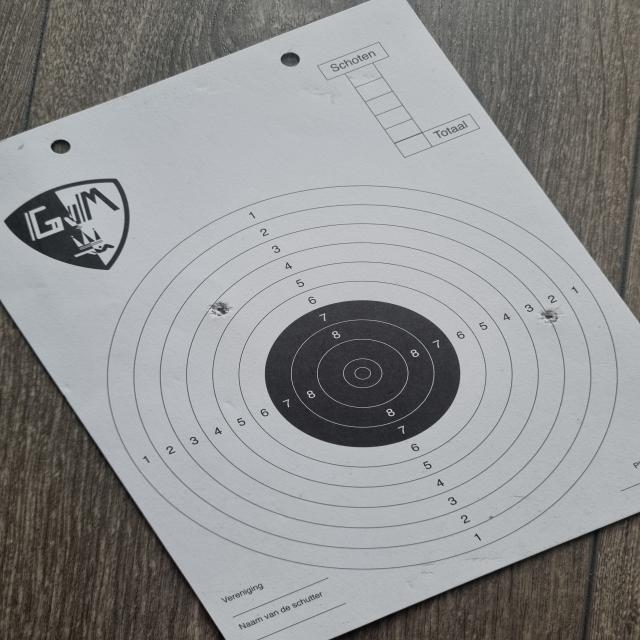3: (538, 310, 560, 324)
4: (207, 300, 230, 317)
Target: (108, 185, 620, 570)
black_contour: (266, 300, 460, 447)
